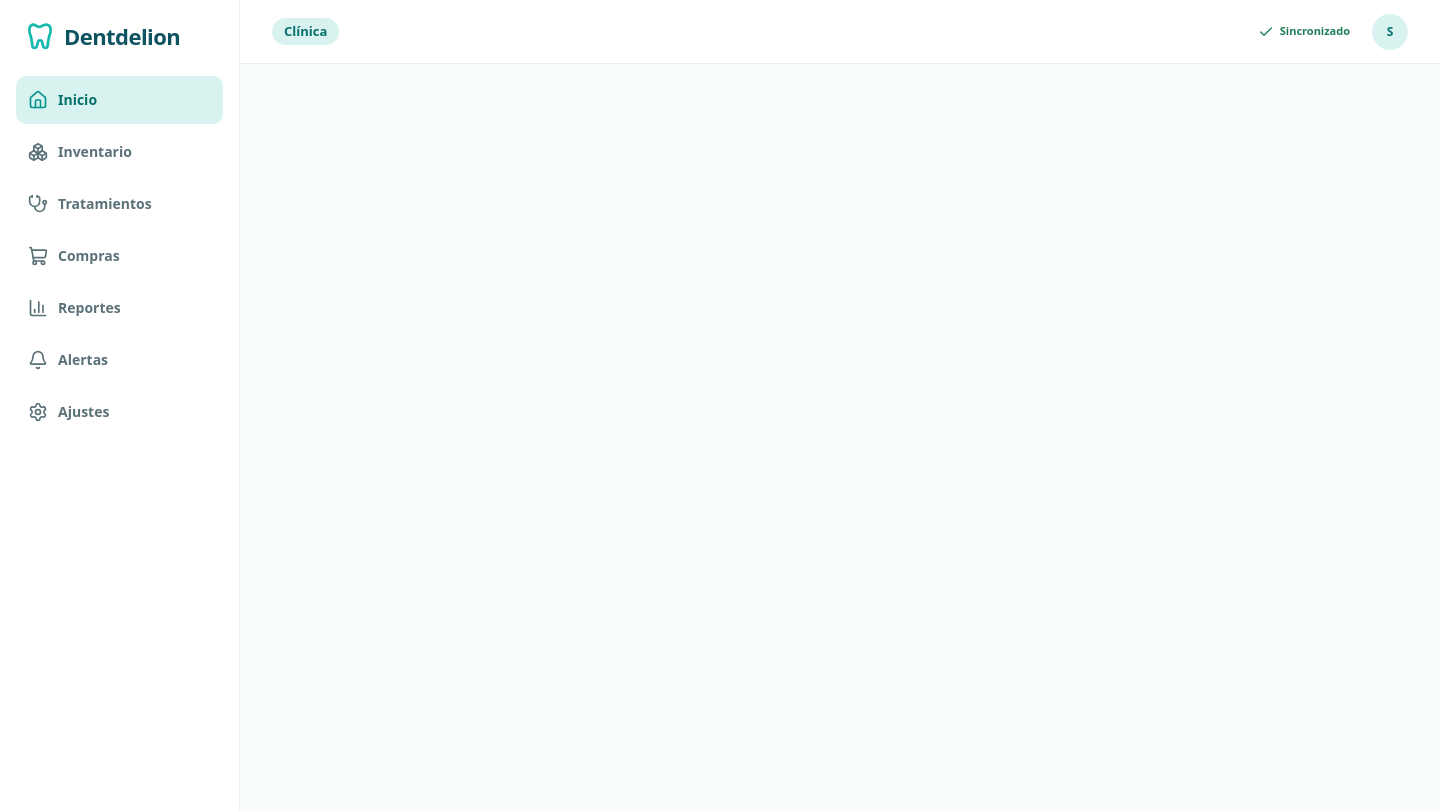
navegación a Reportes › desktop: Reportes está en la sidebar entre Compras y Alertas y abre la sección
The image size is (1440, 810).
Click the button "Reportes".
click(120, 308)  # box x1=16 y1=284 x2=223 y2=332
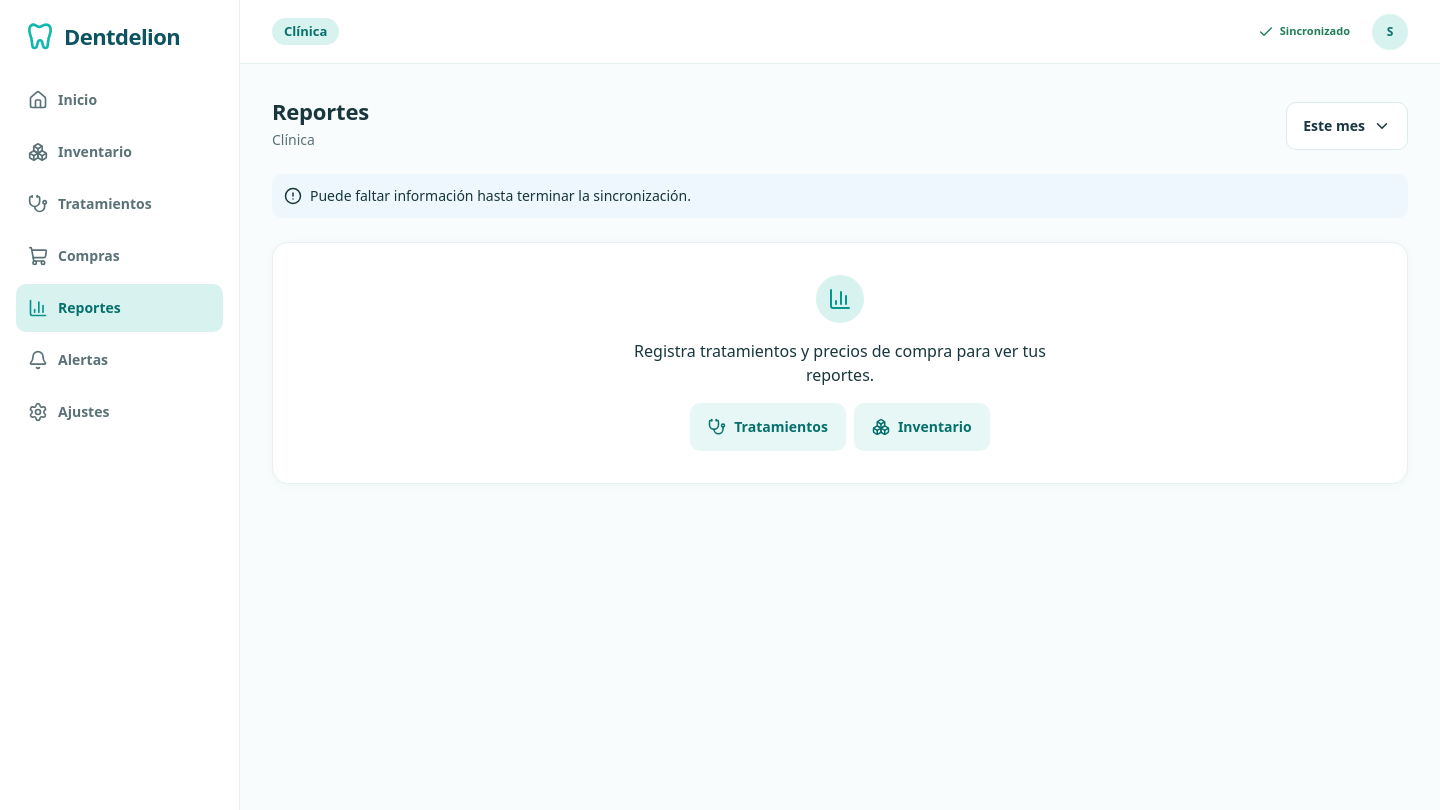
Expected: the heading "Reportes" is shown, x1=272 y1=96 x2=369 y2=126
